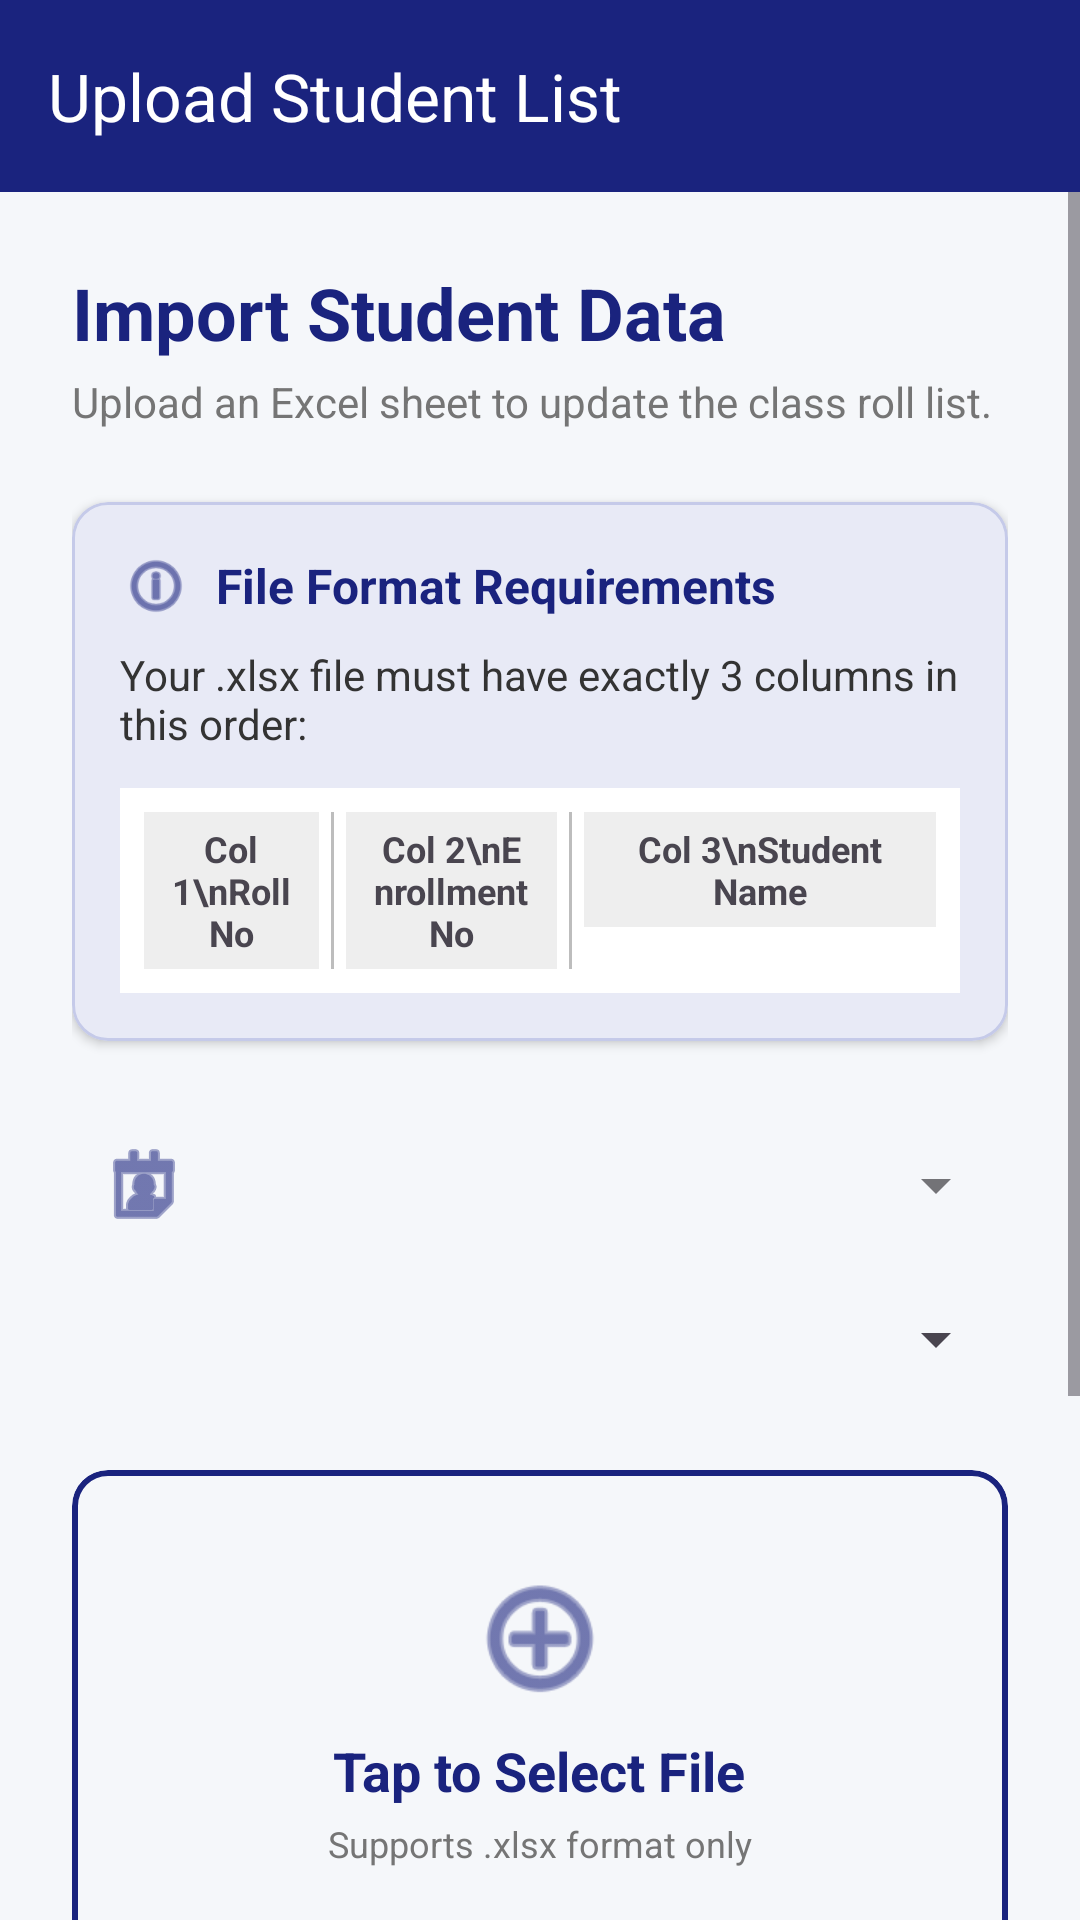

Where icons sit on this 1080×1920 app screen, as (left=x1, top=y1, right=x2, bottom=y2):
add: (left=486, top=1585, right=594, bottom=1692)
info details: (left=130, top=560, right=182, bottom=612)
